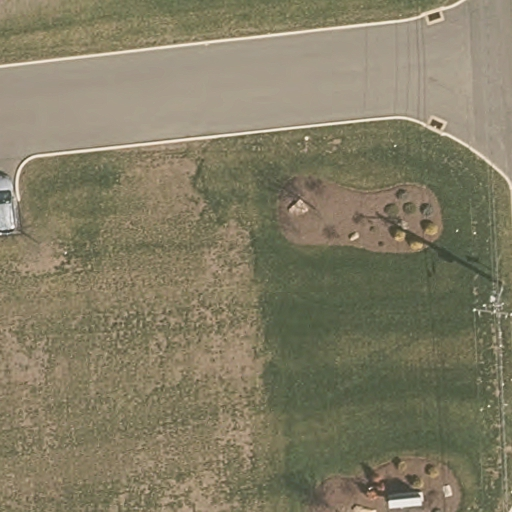DT: (460, 272, 512, 329)
